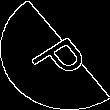P_NE: (19, 25, 91, 85)
